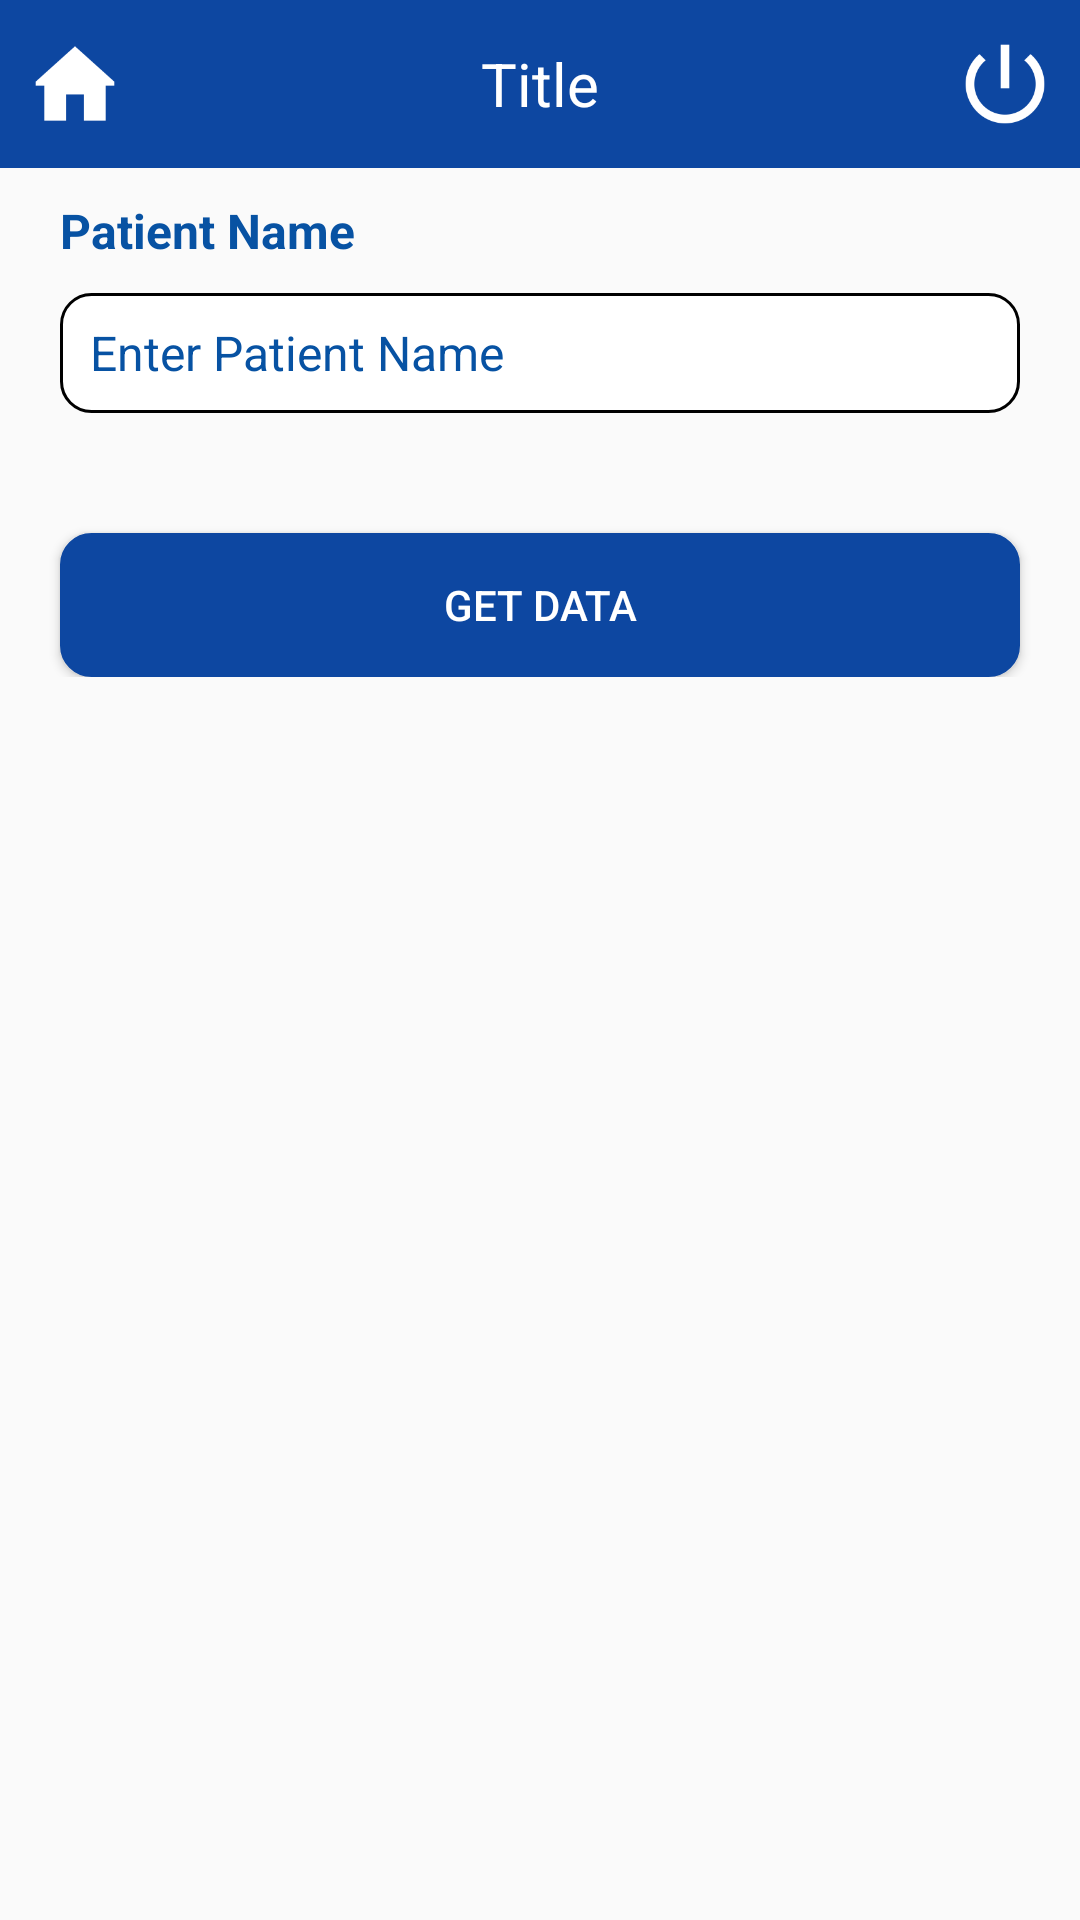

Screen size 1080*1920. Icon name, then its box in pixels as (x1, y1, x2, y2):
home: (35, 46, 115, 121)
